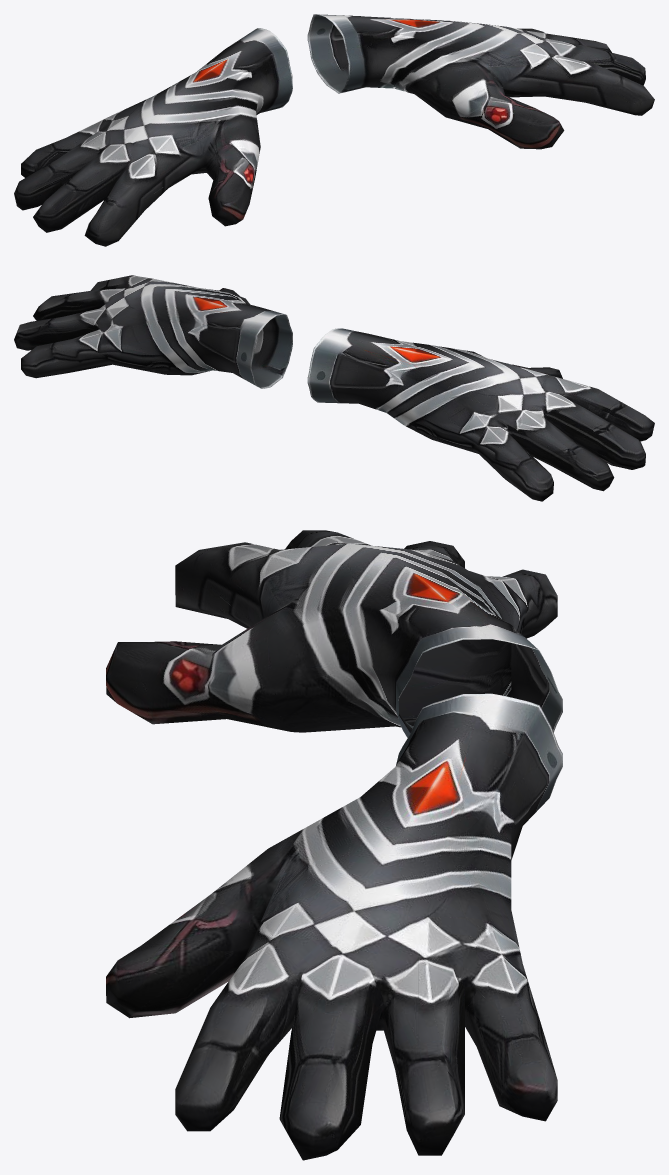
File: BlackRangedGloves.glb
The picture shows the model from 3 angles, top to bottom: view 1: azimuth 30°, elevation 25°; view 2: azimuth 150°, elevation 25°; view 3: azimuth 270°, elevation 25°; orthographic projection. The views are drawn at different scales.
Parts seen in each view (by area): view 1: Mesh_0; view 2: Mesh_0; view 3: Mesh_0.
Part boxes in pixels (x1=…): Mesh_0: x1=14, y1=14, x2=654, y2=246; Mesh_0: x1=14, y1=275, x2=654, y2=501; Mesh_0: x1=106, y1=530, x2=562, y2=1160.
Size of the model in its own units: 2 by 0.3199 by 0.6521.
Materials: 1 (1 with a texture image).
